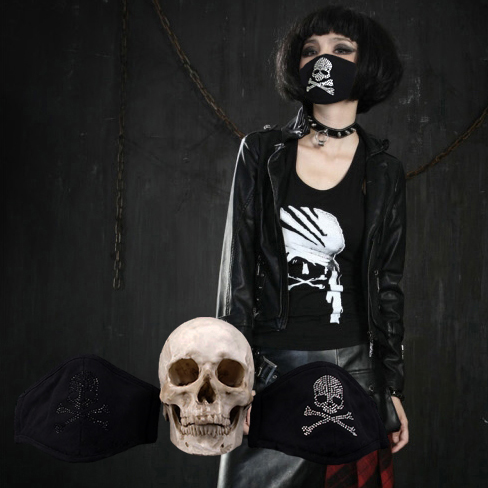face_mask: (297, 23, 362, 100)
